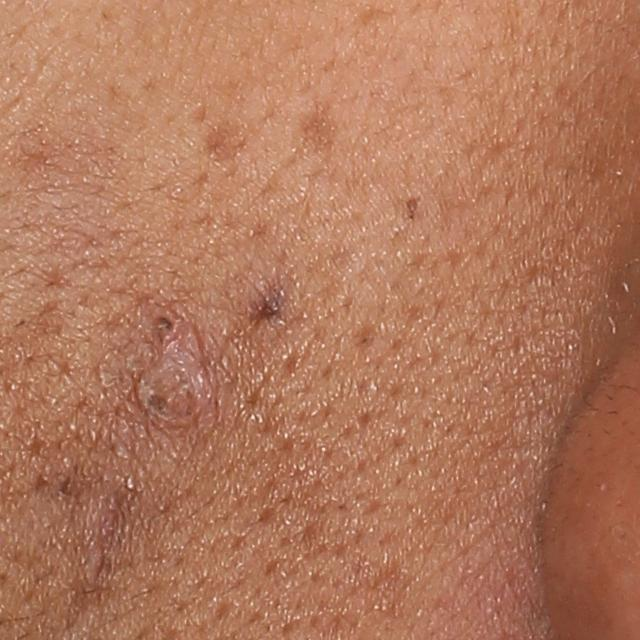nevus: (254, 279, 296, 322)
